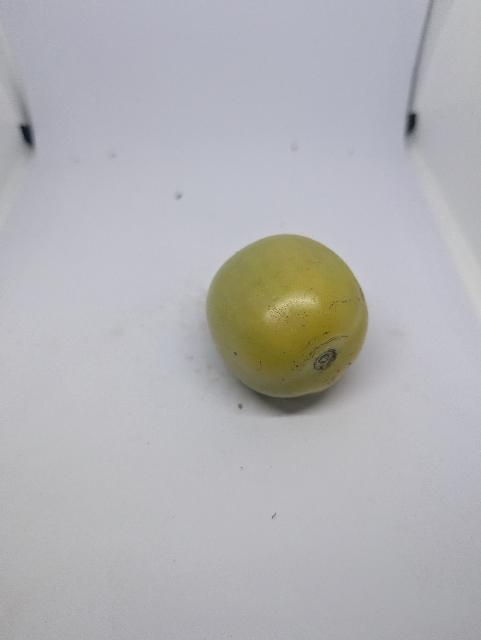breaker: (207, 234, 368, 397)
